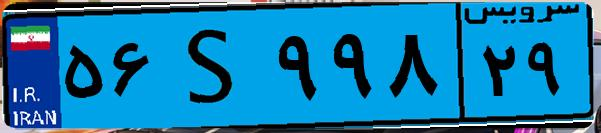2: (475, 38, 525, 113)
5: (57, 26, 110, 100)
6: (110, 28, 158, 98)
8: (385, 28, 445, 110)
9: (270, 28, 330, 110), (330, 28, 385, 110), (525, 38, 570, 115)
S: (158, 12, 270, 120)
